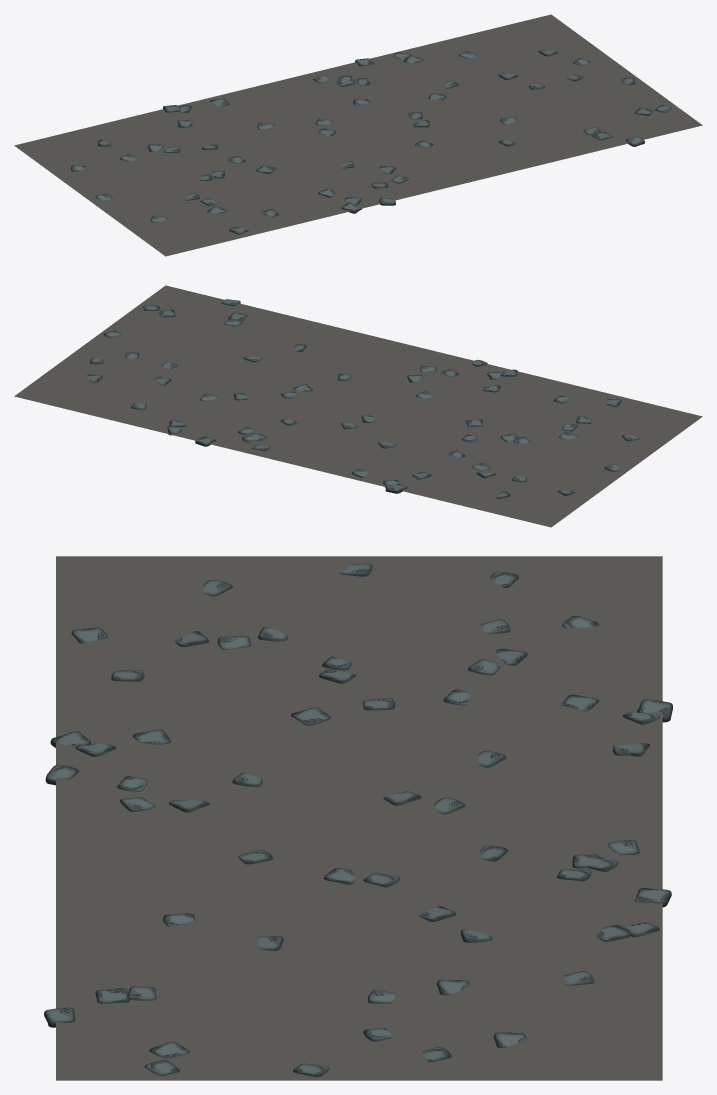
Rendered from RoadPiece_Repeater.fbx.
3 renders of one model, top to bottom at view 1: azimuth 30°, elevation 25°; view 2: azimuth 150°, elevation 25°; view 3: azimuth 270°, elevation 25°, orthographic. The views are drawn at different scales.
Visible parts, largest first — view 1: RoadPiece_Repeater; view 2: RoadPiece_Repeater; view 3: RoadPiece_Repeater.
Boxes of the visible parts, x1,y1,x2,y2 form: RoadPiece_Repeater: [14, 14, 702, 256]; RoadPiece_Repeater: [14, 285, 702, 527]; RoadPiece_Repeater: [44, 556, 672, 1080].
Bounding box in the file's own units: 1601 × 12.35 × 811.
